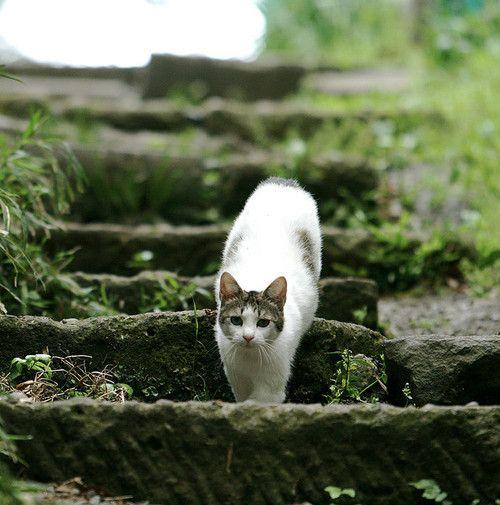kedo: (215, 176, 325, 403)
